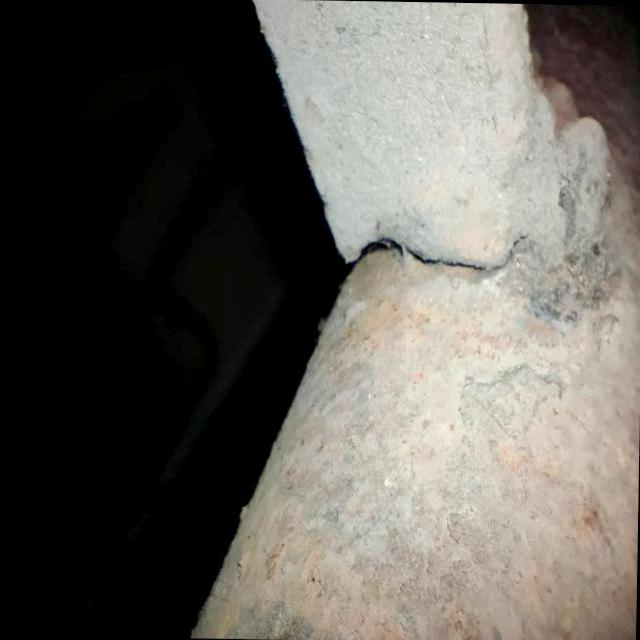defect: (341, 232, 528, 274)
